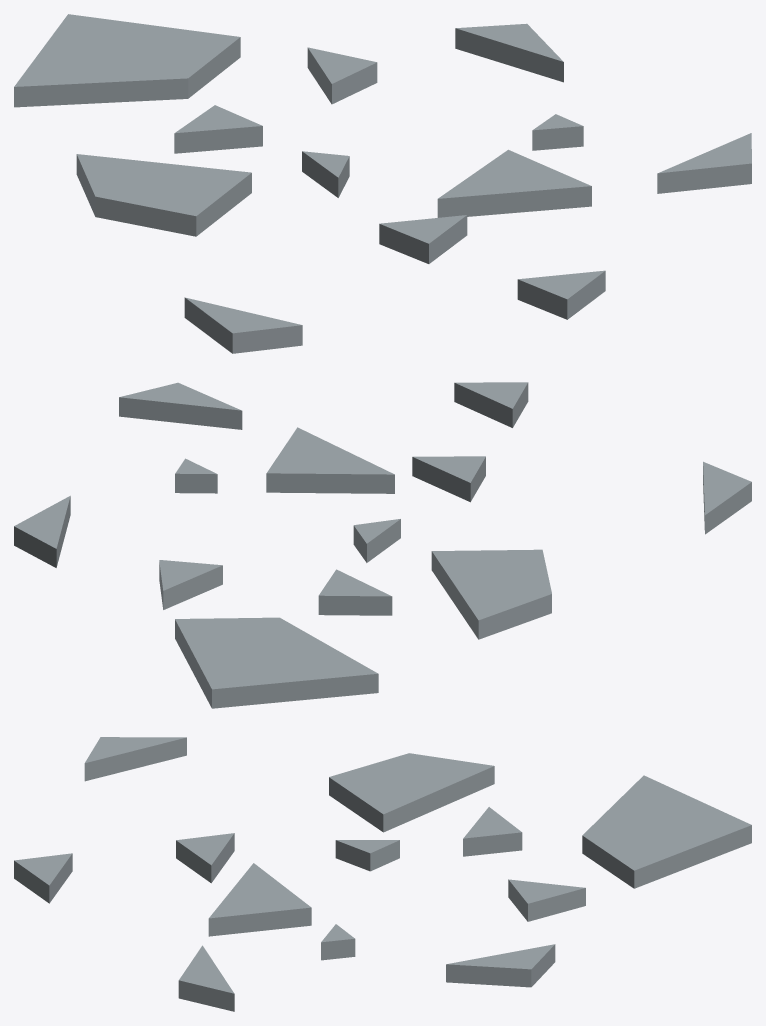
The model's file is SM_Prop_Glass_Shards_01.fbx.
The picture shows the model from 3 angles, top to bottom: view 1: azimuth 30°, elevation 25°; view 2: azimuth 150°, elevation 25°; view 3: azimuth 270°, elevation 25°; orthographic projection. The views are drawn at different scales.
Visible parts, largest first — view 1: SM_Prop_Glass_Shards_01; view 2: SM_Prop_Glass_Shards_01; view 3: SM_Prop_Glass_Shards_01.
Part boxes in pixels (<box>): SM_Prop_Glass_Shards_01: <box>14,14,751,353</box>; SM_Prop_Glass_Shards_01: <box>14,382,751,708</box>; SM_Prop_Glass_Shards_01: <box>14,737,751,1011</box>.
Bounding box in the file's own units: 103 × 3.38 × 125.
